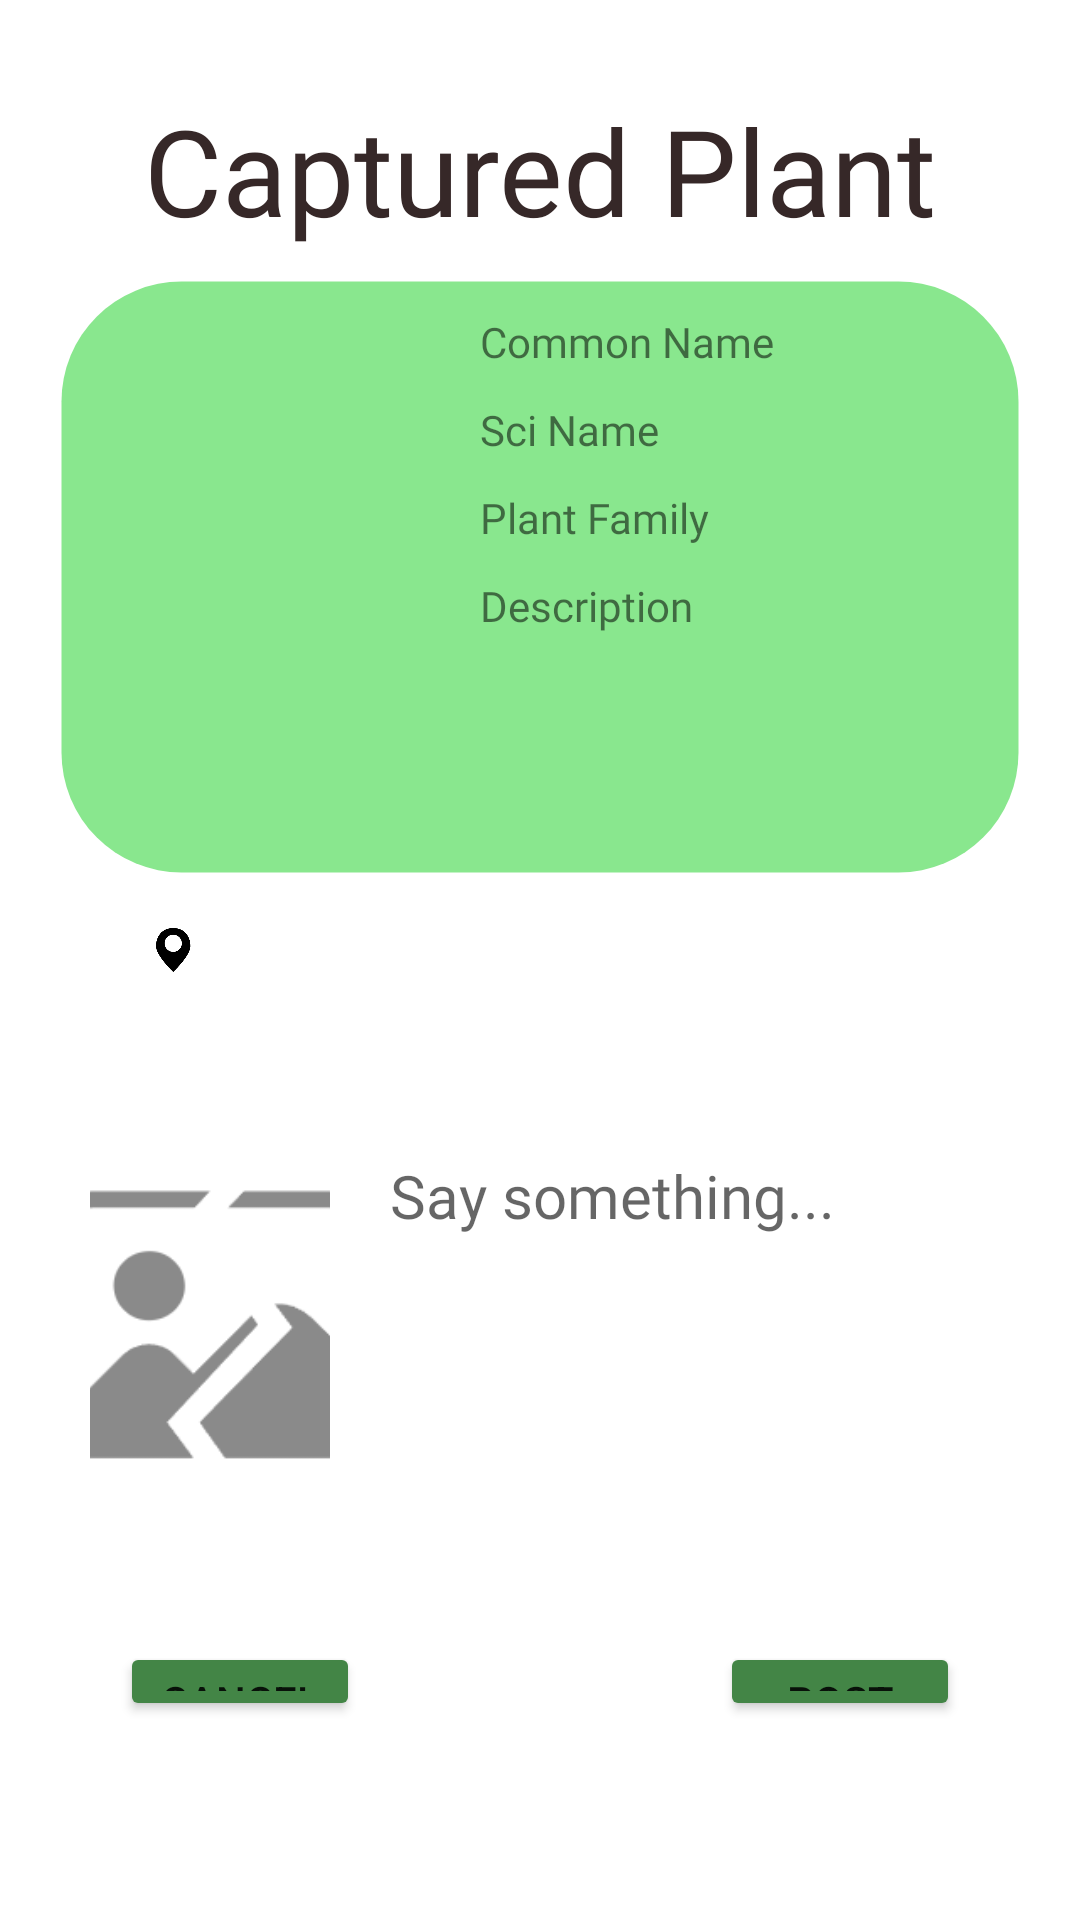

Where to tap for icons on this 1080px x 1920px app screen, as point (x, y):
load fail: point (210, 1324)
position: point (173, 950)
